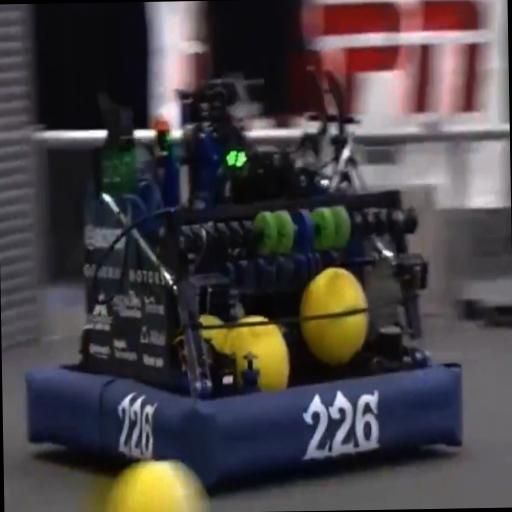robot: (22, 64, 466, 476)
